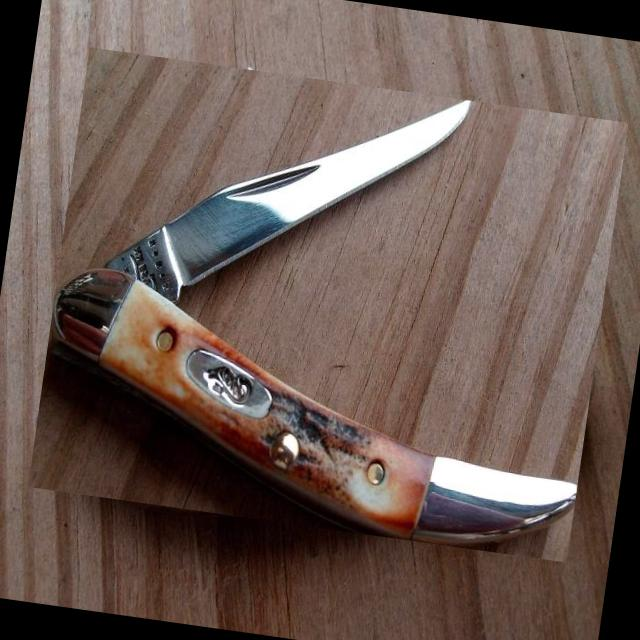Knife: (54, 101, 577, 544)
